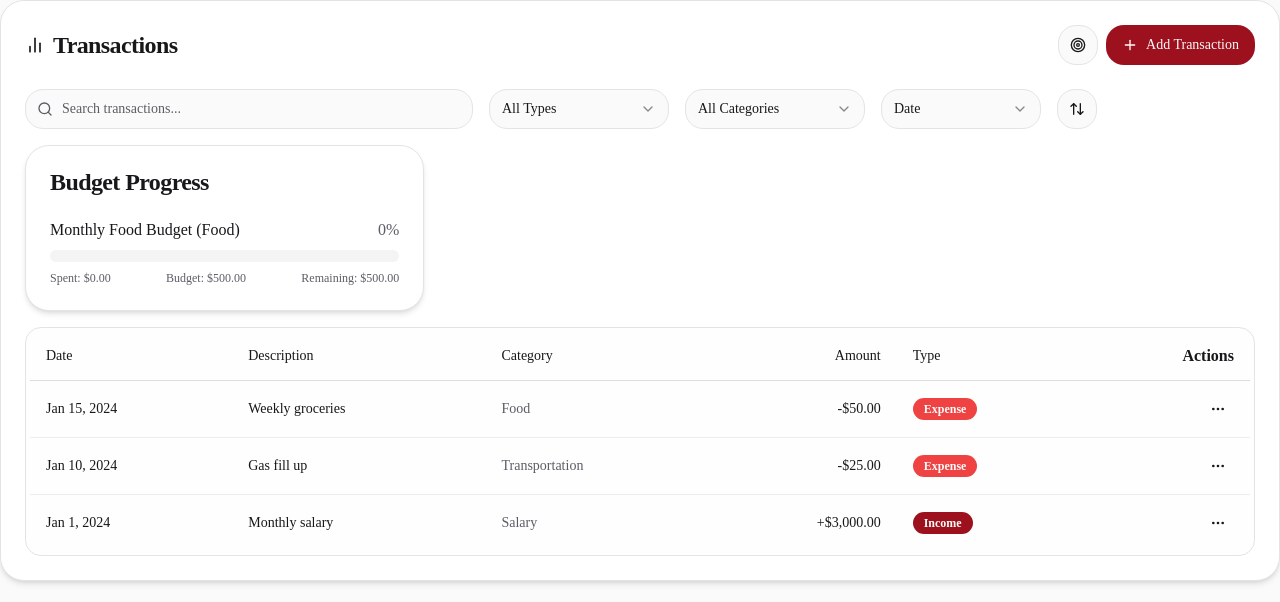
Test: FinanceListView › filters transactions by search query
The image size is (1280, 602).
In the field with placeholder "Search transactions...": {"x": 249, "y": 109} top-left (25, 89), bottom-right (473, 129), type "salary"
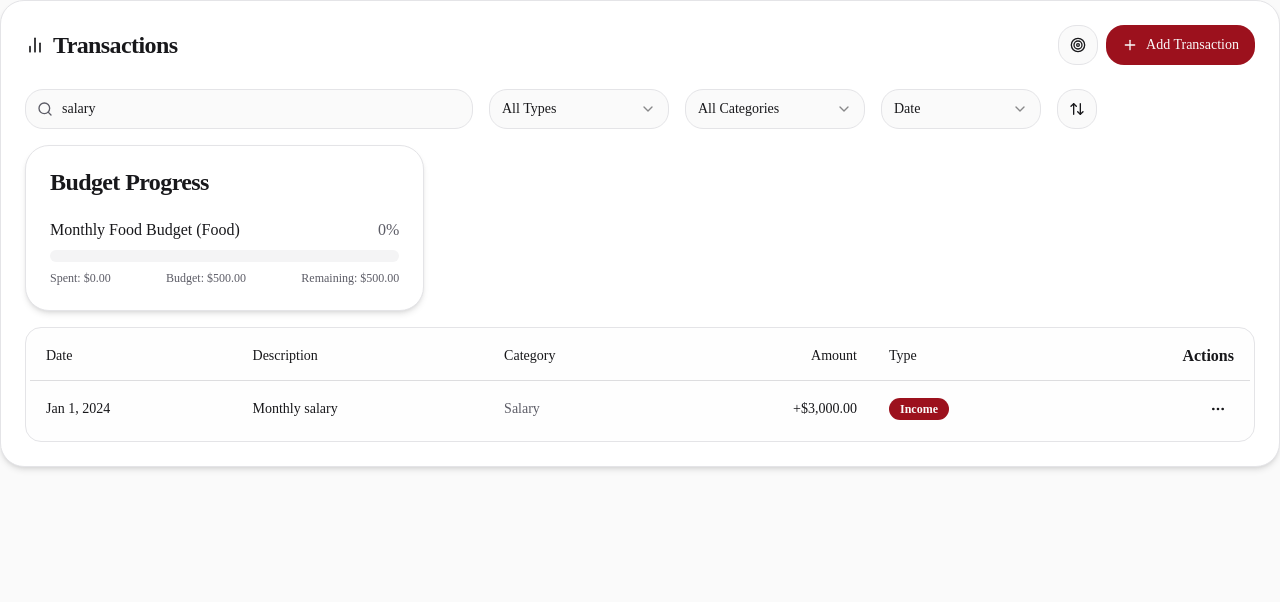
Expected: the text "Monthly salary" is shown, top-left (236, 380), bottom-right (488, 437)
Result: the text "Weekly groceries" is gone
